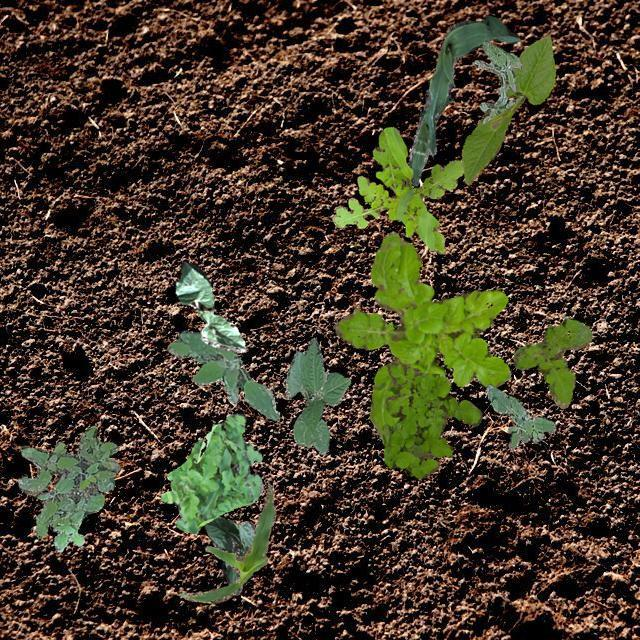crop: (408, 14, 518, 184), (460, 34, 554, 184), (178, 479, 274, 602), (284, 336, 350, 454), (174, 260, 246, 352), (202, 516, 254, 594)
weed: (333, 231, 510, 438), (332, 126, 462, 252), (18, 424, 118, 550), (160, 412, 262, 532), (382, 362, 482, 478), (166, 330, 278, 420), (512, 318, 590, 408), (486, 382, 554, 448), (472, 39, 522, 122)
